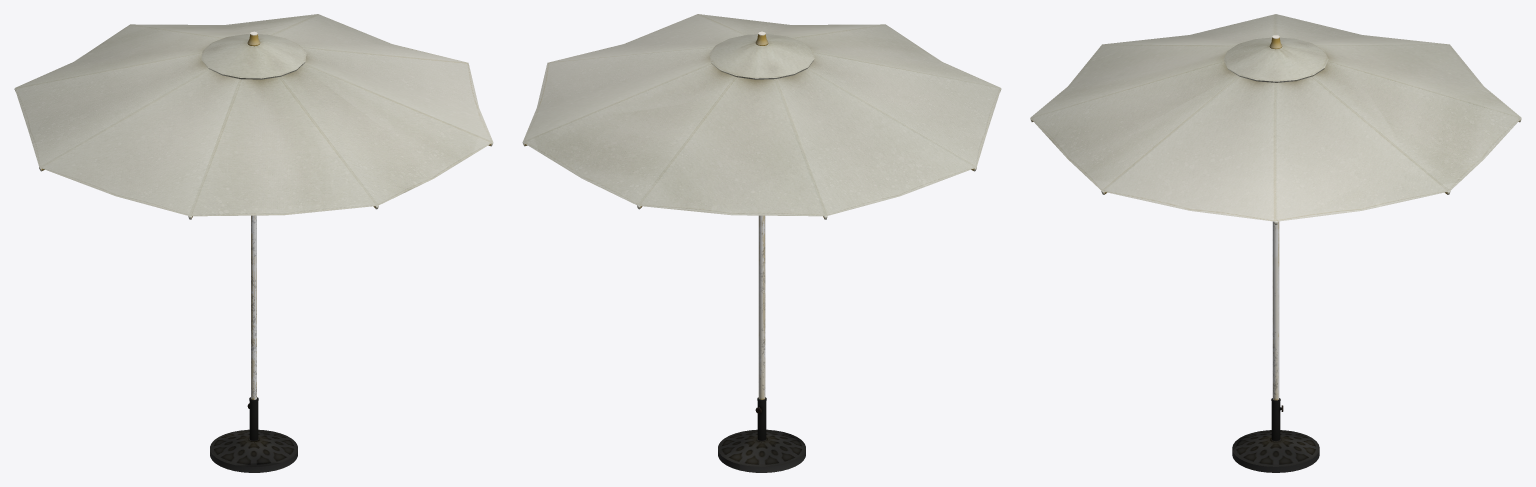
Rendered from Umbrella.glb.
The picture shows the model from 3 angles, left to right: view 1: azimuth 30°, elevation 25°; view 2: azimuth 150°, elevation 25°; view 3: azimuth 270°, elevation 25°; orthographic projection.
Visible parts, largest first — view 1: Patio_Umbrella_Patio_Umbrella_0; view 2: Patio_Umbrella_Patio_Umbrella_0; view 3: Patio_Umbrella_Patio_Umbrella_0.
Boxes of the visible parts, x1,y1,x2,y2 form: Patio_Umbrella_Patio_Umbrella_0: (14, 14, 493, 472); Patio_Umbrella_Patio_Umbrella_0: (522, 14, 1001, 472); Patio_Umbrella_Patio_Umbrella_0: (1030, 14, 1521, 472).
Size of the model in its own units: 2.96 by 2.78 by 2.96.
Materials: 1 (1 with a texture image).
